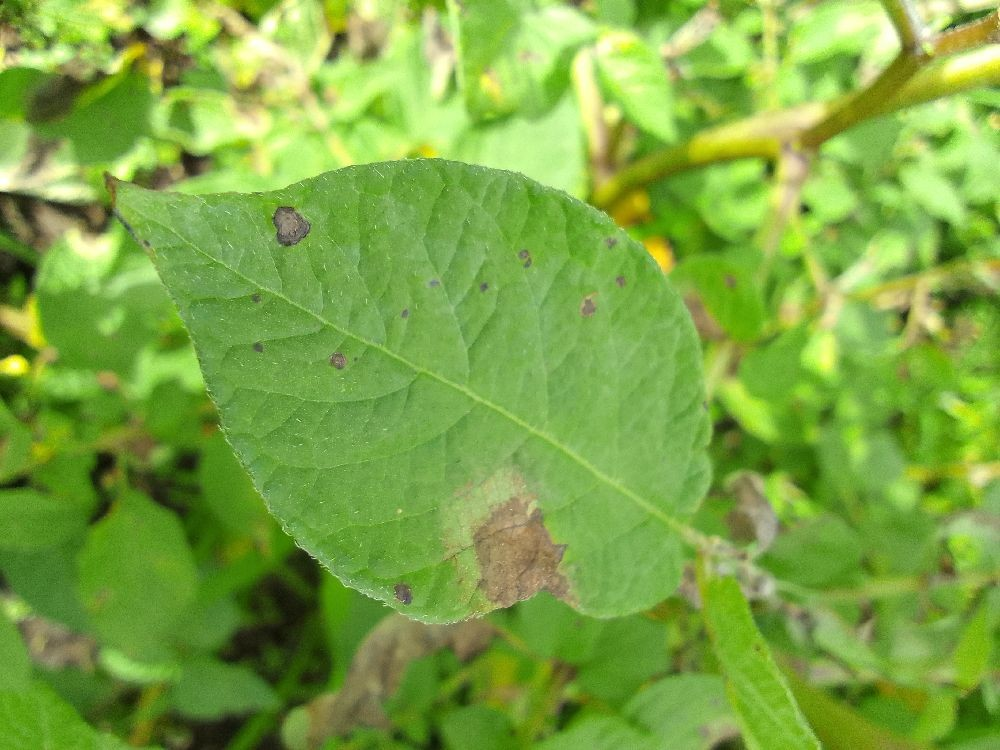late_blight: (291, 477, 587, 749), (211, 566, 321, 670), (0, 178, 129, 266), (112, 693, 267, 750)
